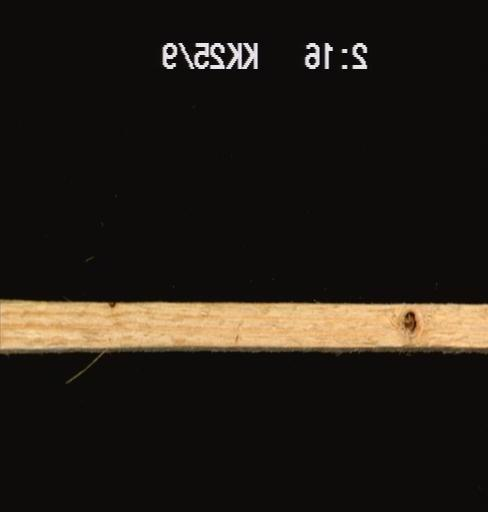dry_knot: (399, 307, 420, 335)
edge_knot: (100, 301, 121, 312)
